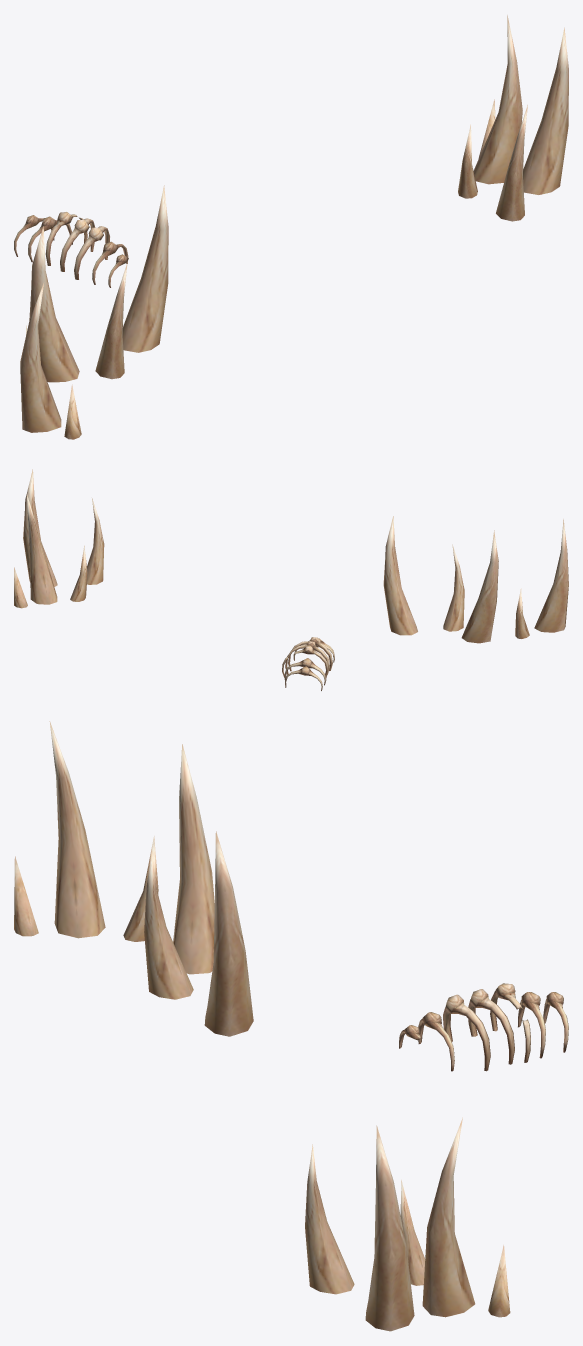
File: area_06_30.fbx
3 renders of one model, top to bottom at view 1: azimuth 30°, elevation 25°; view 2: azimuth 150°, elevation 25°; view 3: azimuth 270°, elevation 25°, orthographic. The views are drawn at different scales.
Parts seen in each view (by area): view 1: area_06_30; view 2: area_06_30; view 3: area_06_30.
Boxes of the visible parts, x1,y1,x2,y2 form: area_06_30: (14, 15, 568, 439); area_06_30: (14, 469, 568, 690); area_06_30: (14, 721, 568, 1331).
Size of the model in its own units: 22.48 by 5.24 by 12.35.
